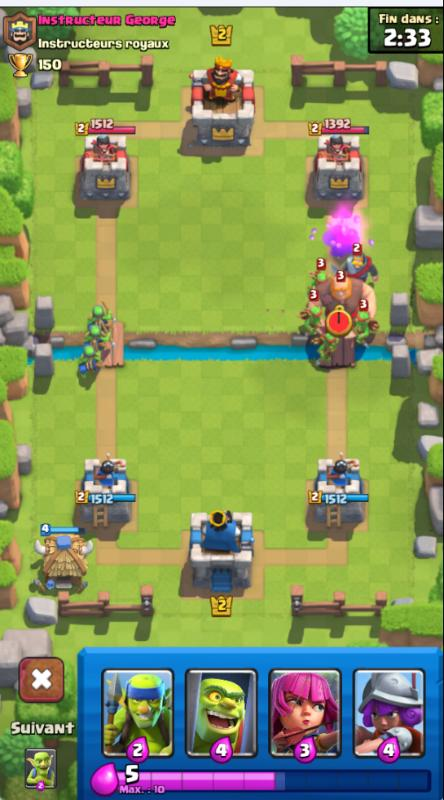chevalier: (334, 248, 379, 288)
geant: (310, 276, 377, 329)
gobelin_lances: (313, 333, 340, 368), (351, 307, 373, 348), (84, 324, 113, 354), (76, 345, 103, 377), (300, 304, 325, 338), (82, 300, 114, 326), (308, 266, 330, 288)
